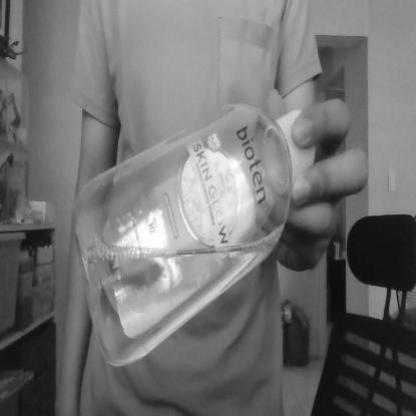Plastic Bottle: (74, 104, 319, 367)
